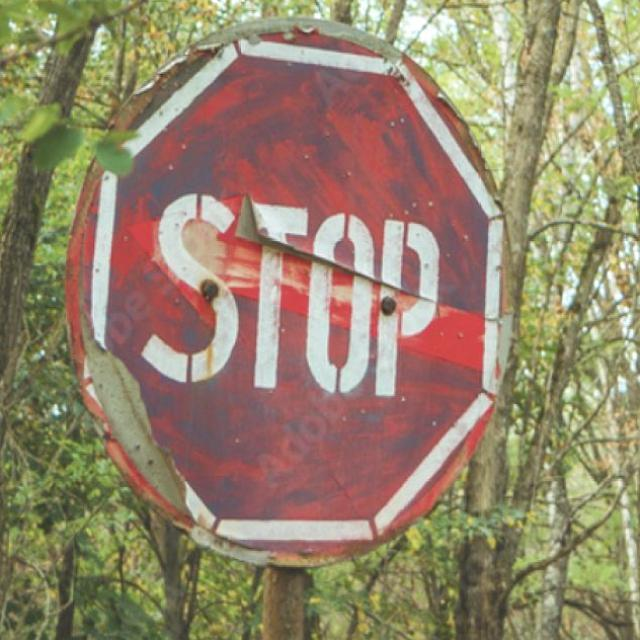damaged_missing_road_sign: (67, 14, 503, 575)
